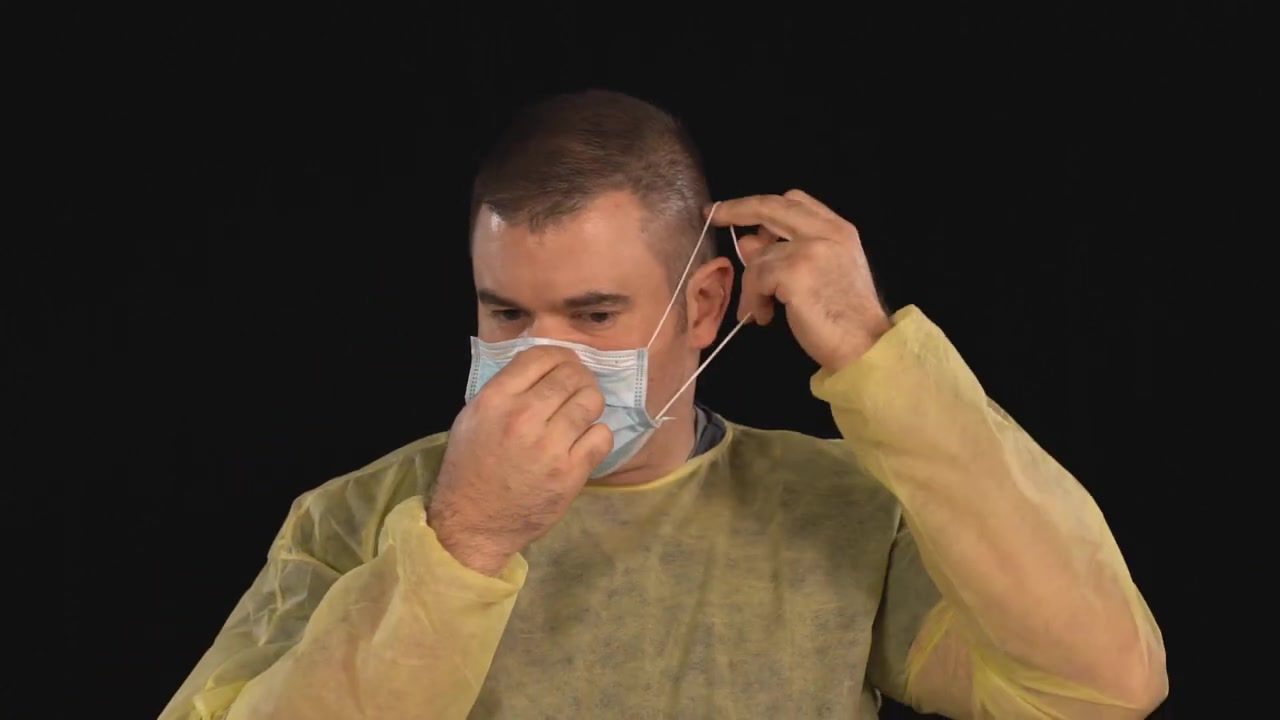Coverall: (267, 422, 1131, 720)
with_mask: (445, 300, 651, 483)
